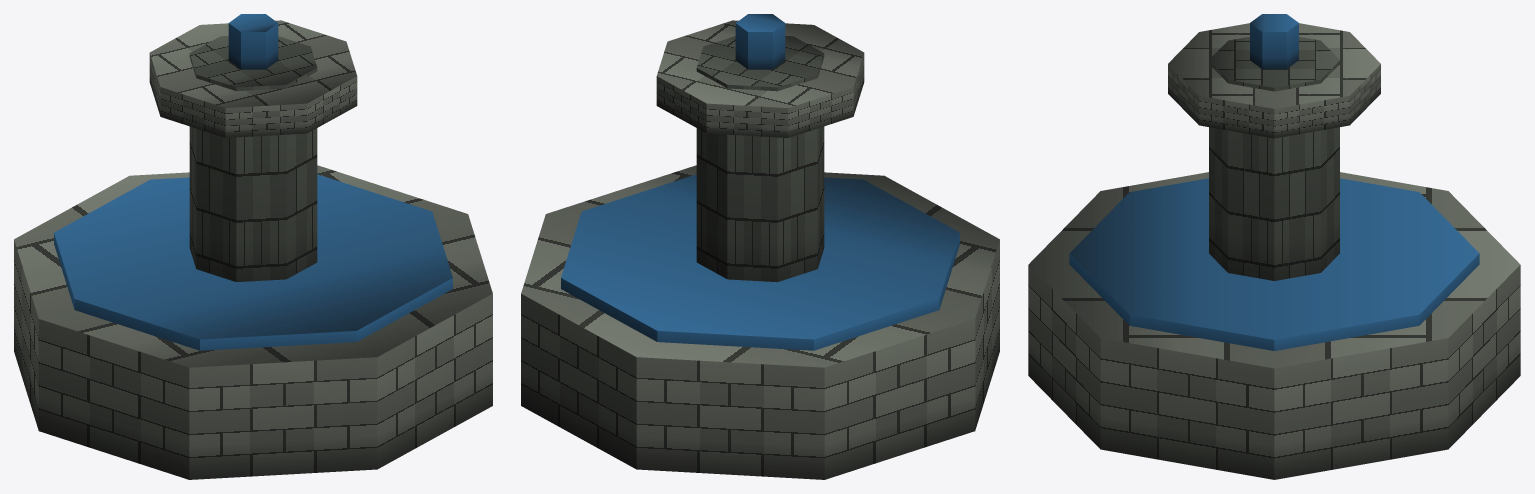
Rendered from fountain.gltf.
The picture shows the model from 3 angles, left to right: view 1: azimuth 30°, elevation 25°; view 2: azimuth 150°, elevation 25°; view 3: azimuth 270°, elevation 25°; orthographic projection.
Visible parts, largest first — view 1: fountain; view 2: fountain; view 3: fountain.
Boxes of the visible parts, box(x1,y1,x2,y2) form: fountain: box(14, 14, 492, 479); fountain: box(521, 14, 999, 479); fountain: box(1028, 14, 1520, 479).
Size of the model in its own units: 1.2 by 0.95 by 1.2.
Materials: 1 (1 with a texture image).
